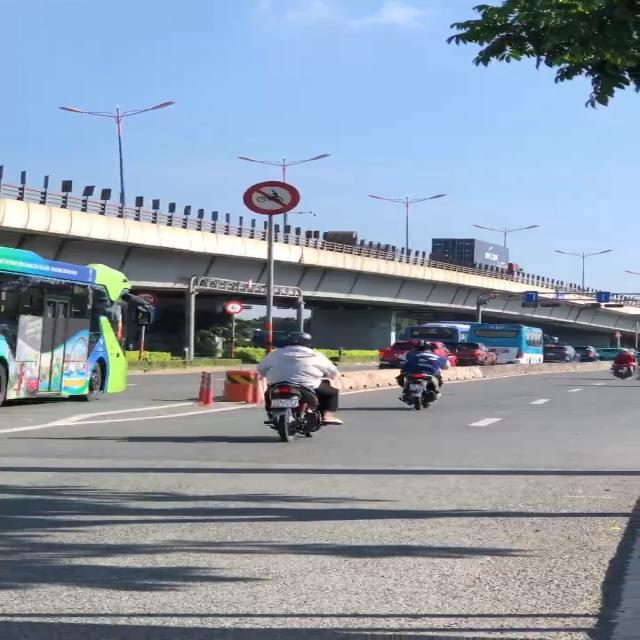Bien bao cam xe may: (236, 178, 312, 219)
